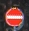No entry: (5, 6, 24, 26)
